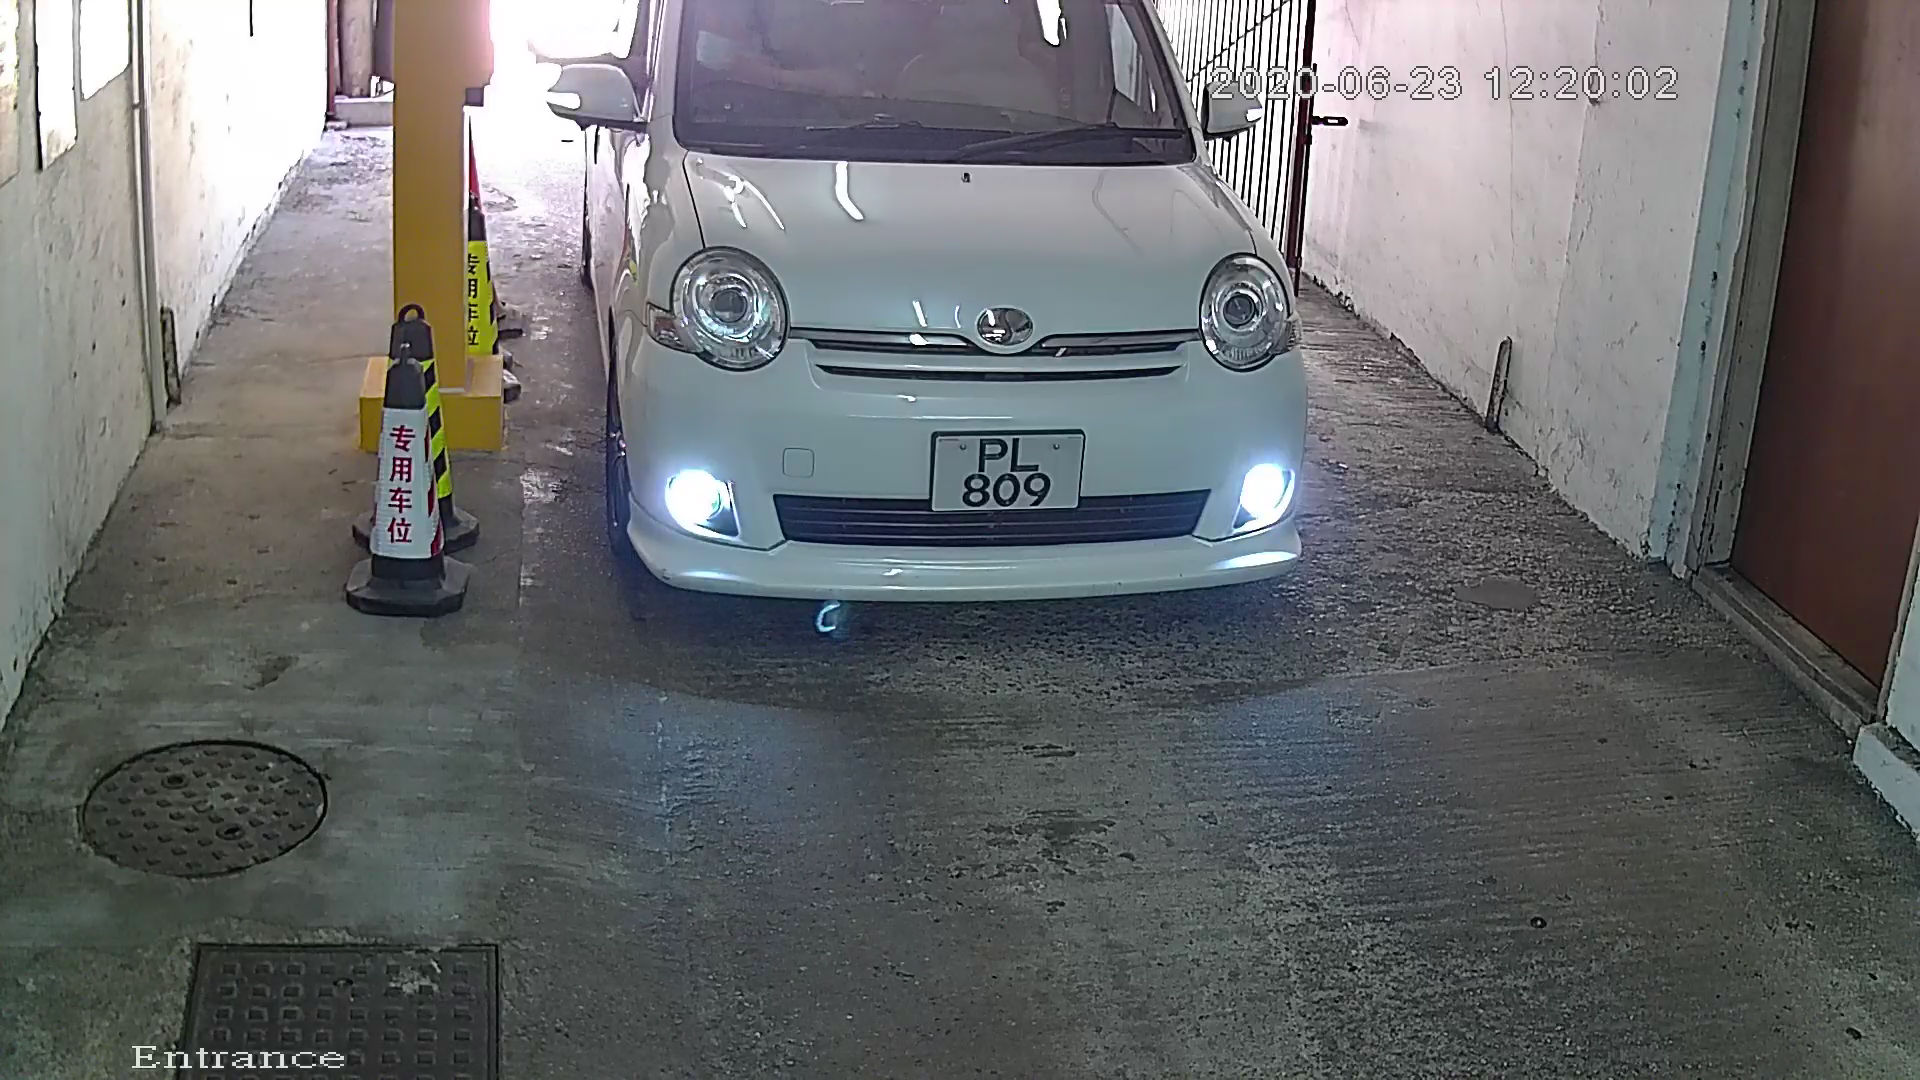privatecar: (505, 3, 1416, 673)
